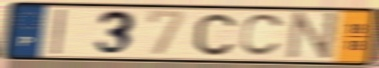3: (92, 8, 141, 58)
7: (145, 9, 190, 59)
C: (238, 12, 288, 59), (193, 12, 238, 57)
I: (50, 7, 68, 56)
N: (284, 11, 341, 63)
